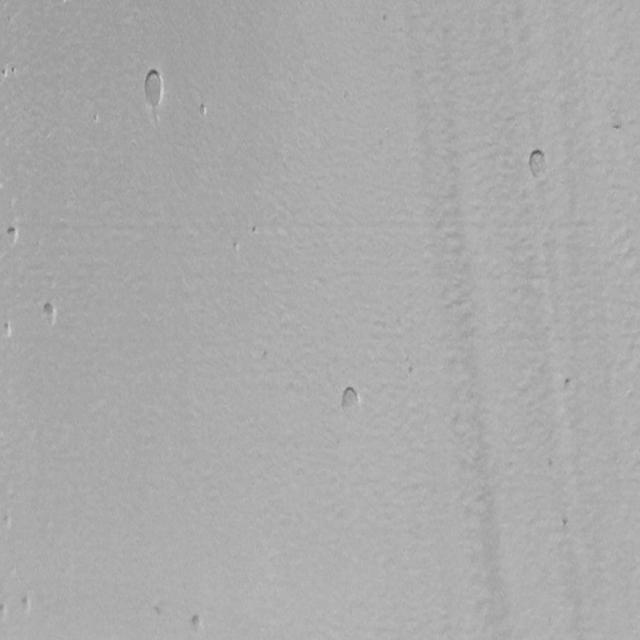pin holes: (140, 65, 168, 108), (336, 384, 364, 415), (528, 148, 553, 182), (38, 298, 58, 328), (560, 374, 581, 396), (151, 598, 173, 618), (188, 613, 207, 635), (4, 225, 22, 248), (18, 594, 34, 618), (1, 319, 17, 342), (3, 61, 21, 81), (2, 512, 15, 535), (197, 102, 209, 118), (247, 224, 260, 238), (0, 604, 9, 624), (230, 239, 241, 255), (611, 121, 624, 132), (562, 517, 568, 533), (382, 12, 389, 23), (408, 365, 416, 374), (93, 112, 99, 124)
